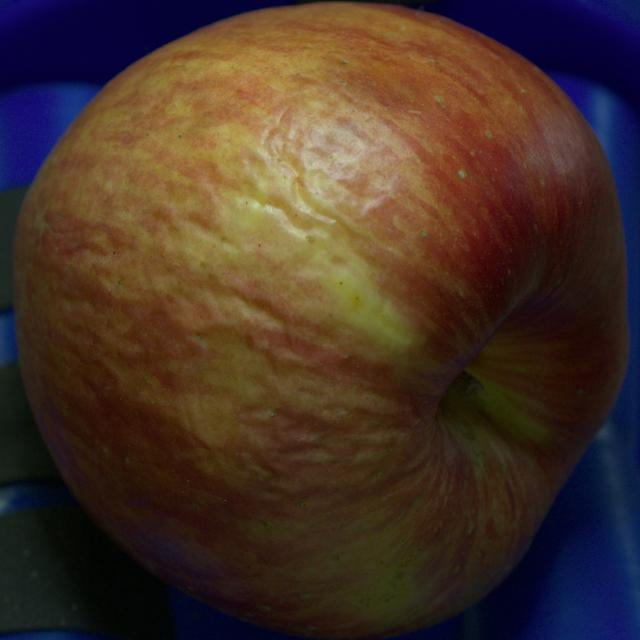apple: (14, 4, 627, 639)
bruise: (171, 322, 285, 455), (339, 45, 445, 114)
